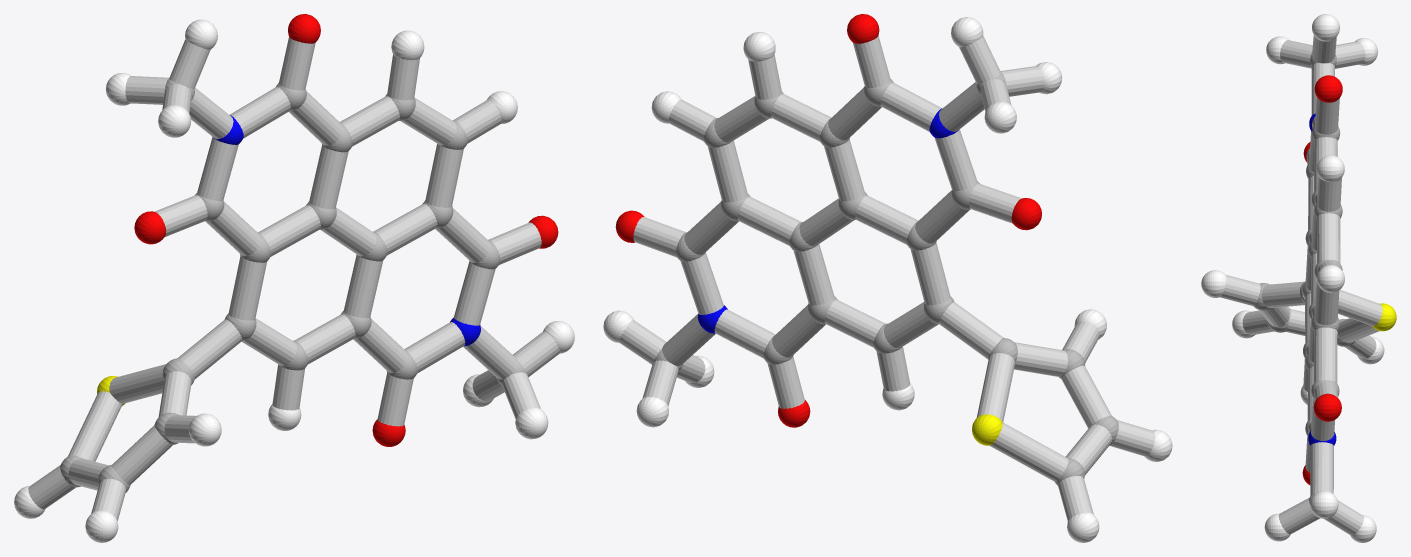
File: Dimethyl_Naphthalene_Dicarboximide_Phi_15_Theta_280_Thiophene.glb
The picture shows the model from 3 angles, left to right: view 1: azimuth 30°, elevation 25°; view 2: azimuth 150°, elevation 25°; view 3: azimuth 270°, elevation 25°; orthographic projection. The views are drawn at different scales.
Visible parts, largest first — view 1: grp14119, grp7241, grp1, grp12309, grp11585; view 2: grp14119, grp7241, grp1, grp12309, grp13757, grp11585; view 3: grp14119, grp7241, grp1, grp12309, grp13757.
Boxes of the visible parts, bbox=[...] form: grp14119: bbox=[28, 37, 560, 520]; grp7241: bbox=[14, 19, 574, 542]; grp1: bbox=[60, 78, 526, 492]; grp12309: bbox=[134, 14, 558, 446]; grp11585: bbox=[212, 115, 480, 346]; grp14119: bbox=[619, 35, 1155, 521]; grp7241: bbox=[603, 17, 1172, 542]; grp1: bbox=[654, 72, 1118, 485]; grp12309: bbox=[615, 14, 1041, 427]; grp13757: bbox=[972, 414, 1002, 445]; grp11585: bbox=[697, 108, 958, 333]; grp14119: bbox=[1220, 35, 1382, 535]; grp7241: bbox=[1201, 14, 1384, 542]; grp1: bbox=[1253, 52, 1355, 504]; grp12309: bbox=[1302, 75, 1342, 484]; grp13757: bbox=[1372, 303, 1396, 331].
Size of the model in its own units: 11.1 by 9.59 by 4.17.
